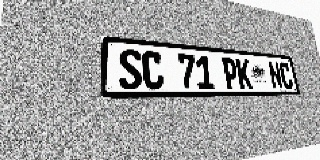1: (195, 55, 214, 89)
7: (177, 53, 198, 89)
C: (142, 50, 164, 89), (278, 62, 294, 89)
K: (235, 58, 253, 89)
N: (267, 61, 283, 89)
P: (221, 57, 240, 89)
S: (118, 48, 143, 89)
